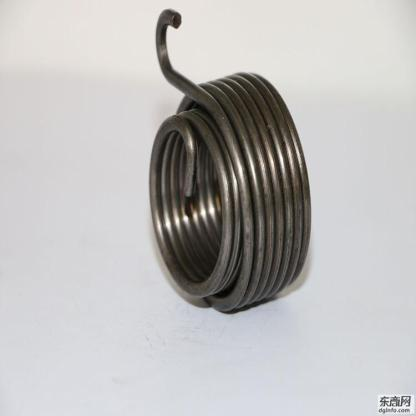FOD: (145, 4, 315, 315)
